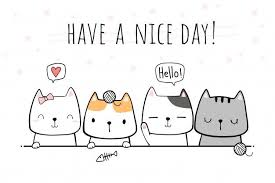cat: (135, 78, 200, 138), (22, 81, 86, 138), (189, 86, 253, 142), (78, 87, 140, 144)
